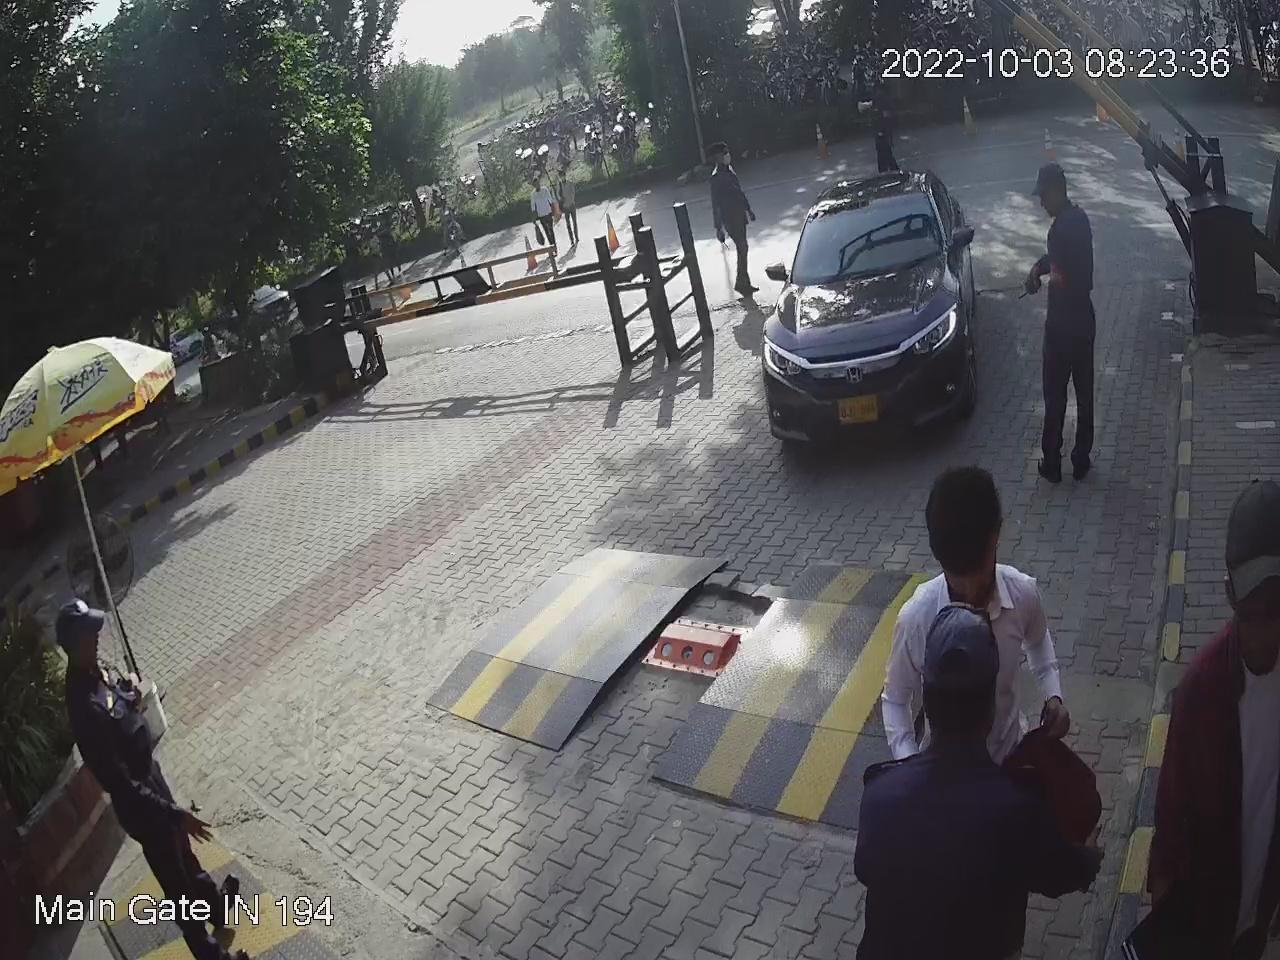windshield: (790, 177, 950, 280)
